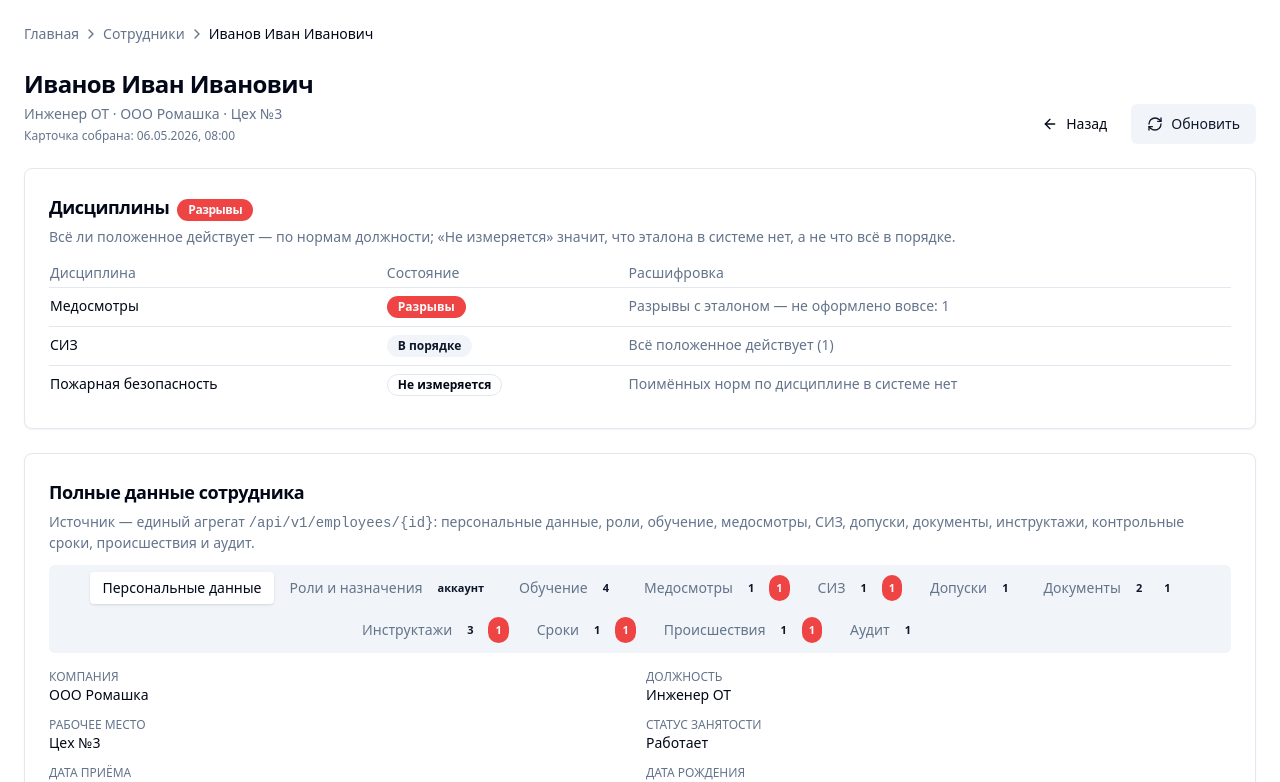
Scenario: EmployeeCardPage › opens the Documents tab and renders signed-document drill-down link
This screenshot has width=1280, height=782.
Expected: the heading "Иванов Иван Иванович" is shown, [24, 68, 313, 100]
What coordinates should you click on to do the following:
click the tab "Документы 2 1"
I would click on:
 (1110, 588)
Its box is [1031, 569, 1190, 607].
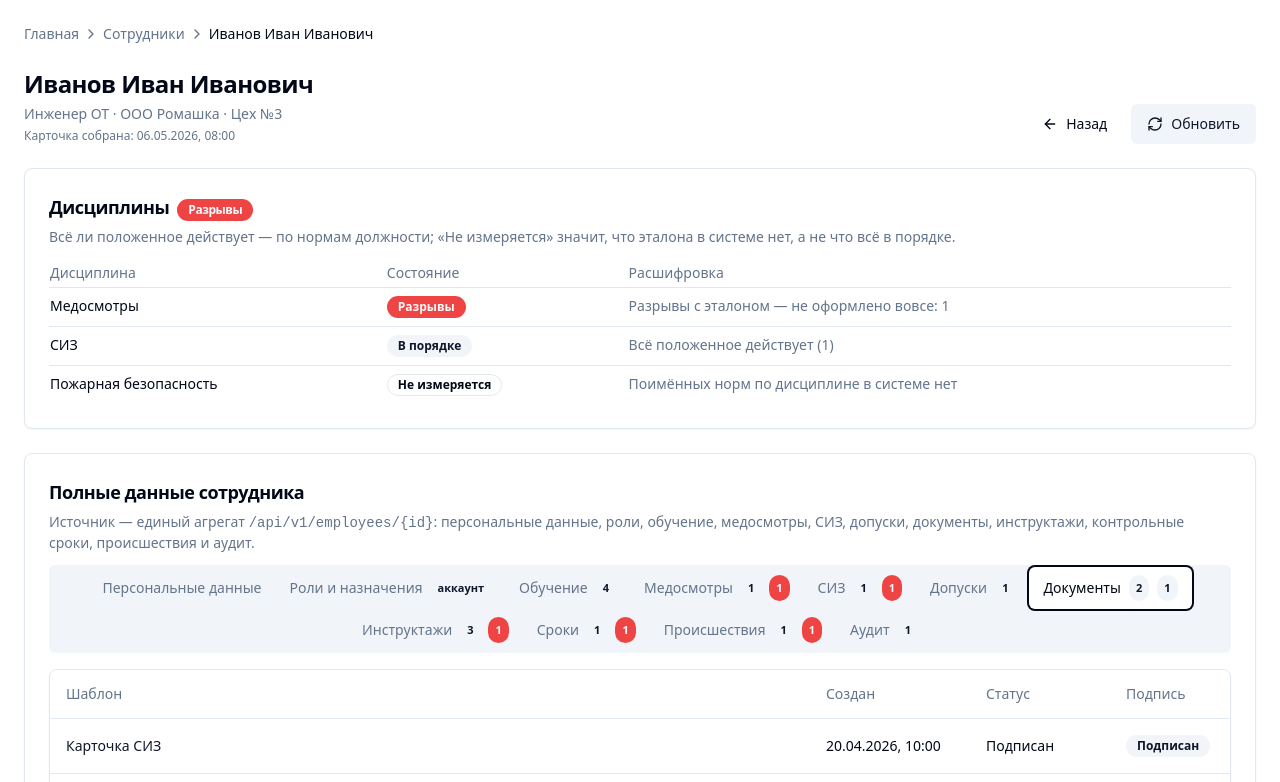
Expected: the row "Карточка СИЗ" is shown, [50, 718, 1230, 773]
Expected: the text "Подписан" is shown 2 times, [970, 718, 1110, 773]; [1126, 734, 1210, 756]
